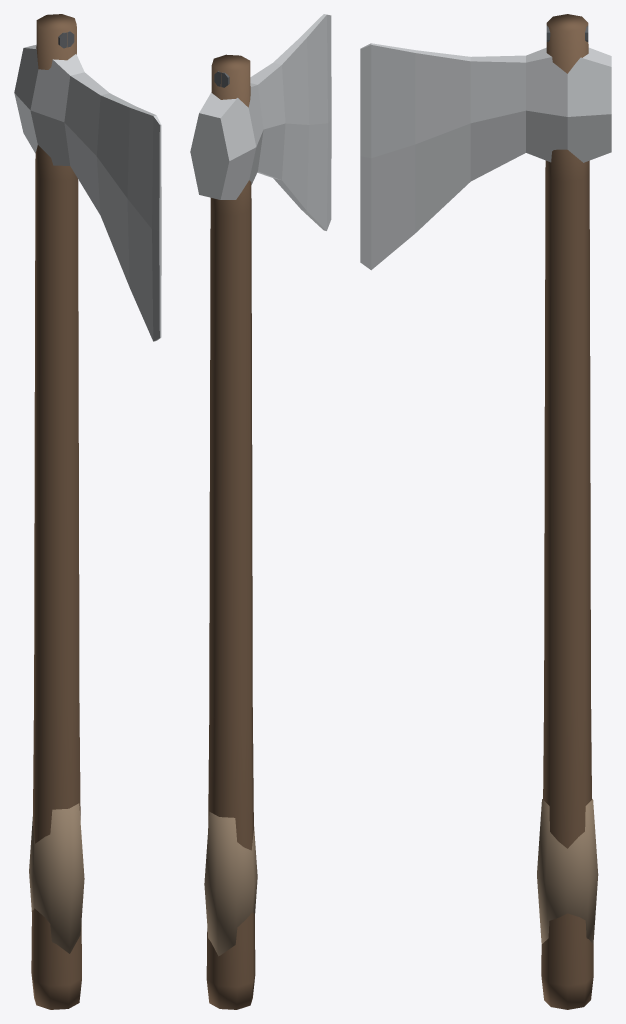
The model's file is weapon_axe.glb.
3 renders of one model, left to right at view 1: azimuth 30°, elevation 25°; view 2: azimuth 150°, elevation 25°; view 3: azimuth 270°, elevation 25°, orthographic. The views are drawn at different scales.
Visible parts, largest first — view 1: weapon_axe; view 2: weapon_axe; view 3: weapon_axe.
Part boxes in pixels (x1,y1,x2,y2): weapon_axe: (14,14,161,1009); weapon_axe: (190,14,331,1009); weapon_axe: (360,14,611,1009).
Bounding box in the file's own units: 0.044 × 0.78 × 0.182.
